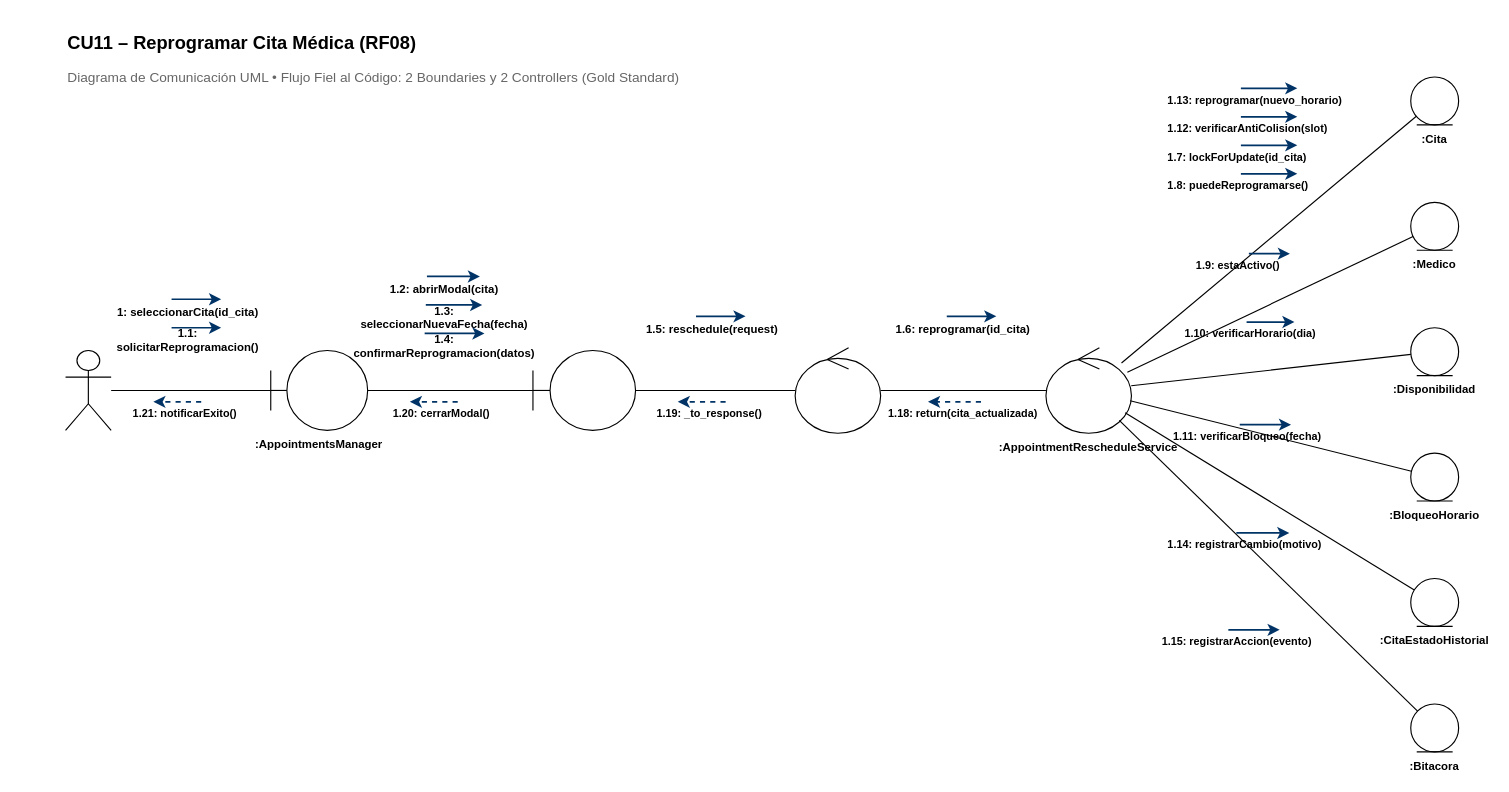
This 1509x792 diagram has some shape labels left out. Here are the shapes that lost their labels. From the top down, the centre of each, then its label:
At (x=87, y=389): ":Recepcionista / Paciente".
At (x=584, y=389): ":AppointmentRescheduleModal".
At (x=837, y=390): ":AppointmentsController".
